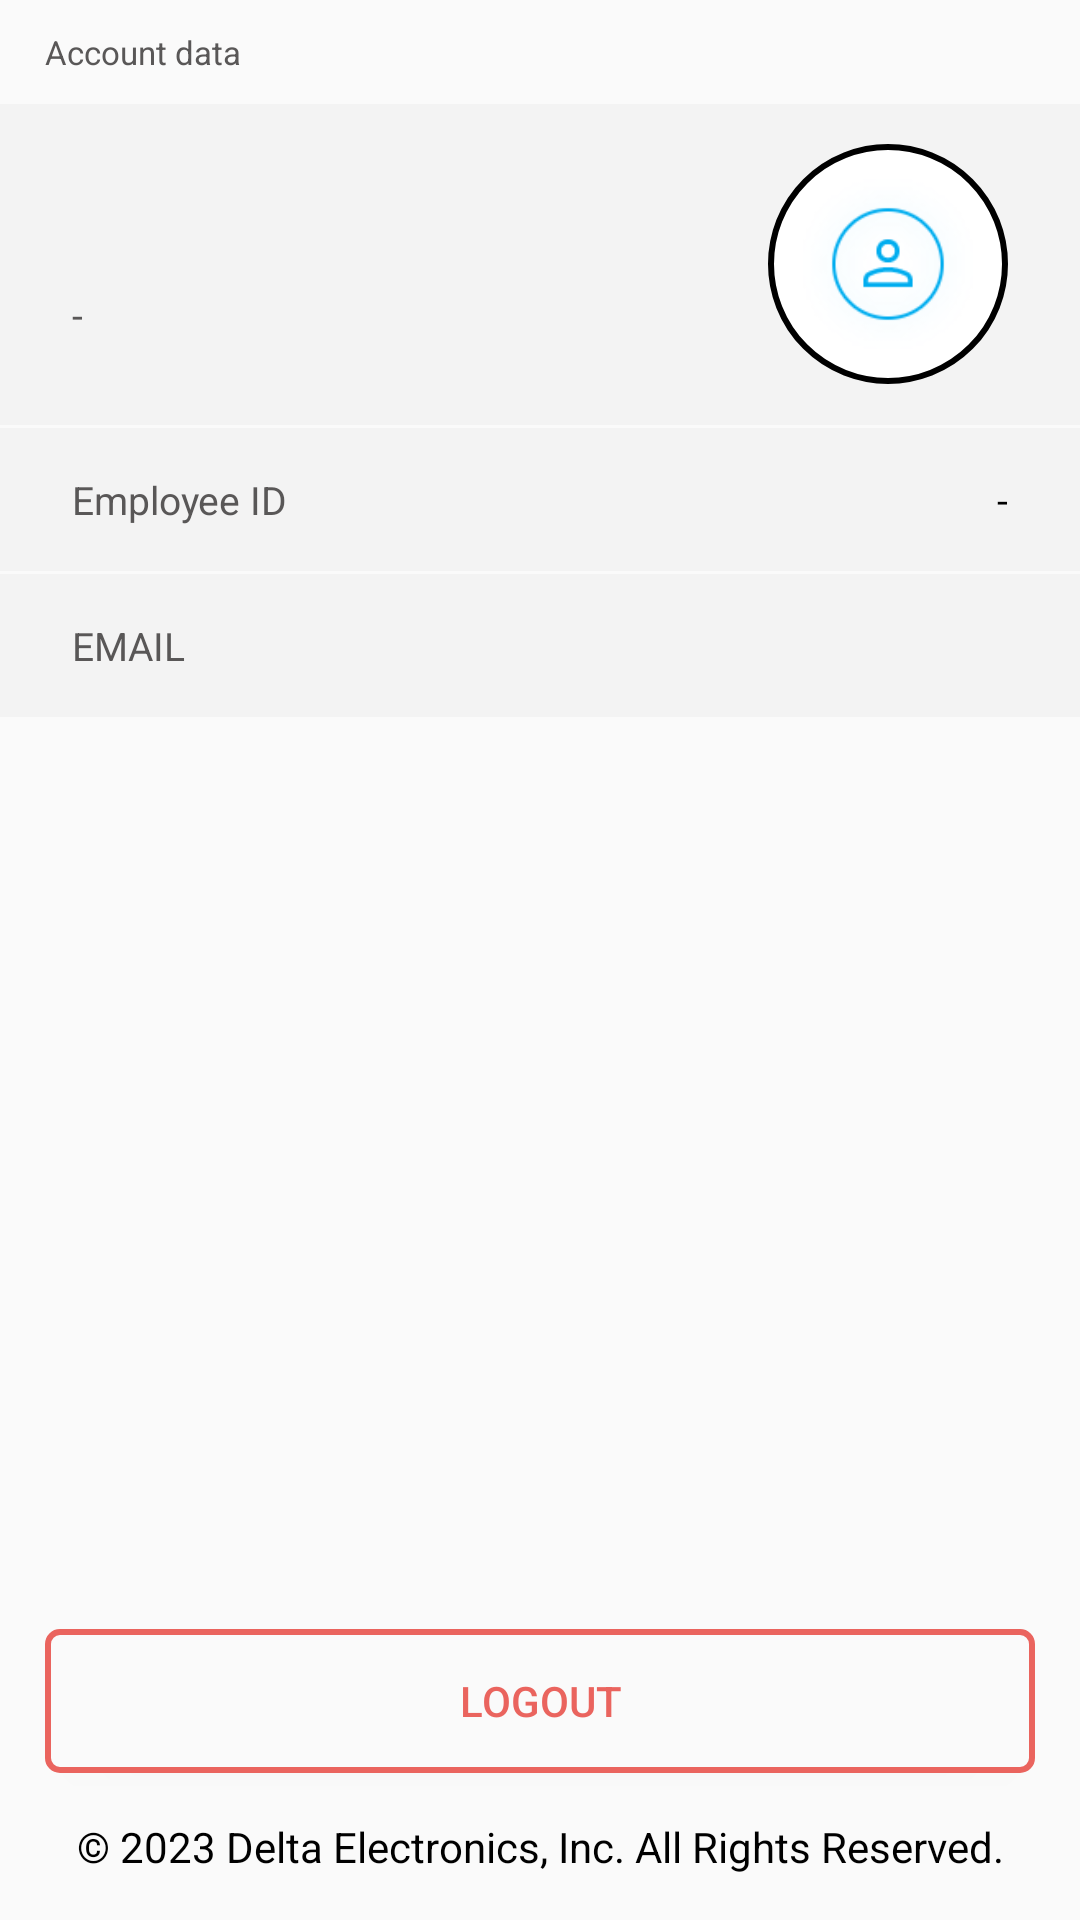

Point at icon controls on the screen. Image size 1080 × 1920, points as [x,y].
userinfo: [888,264]
